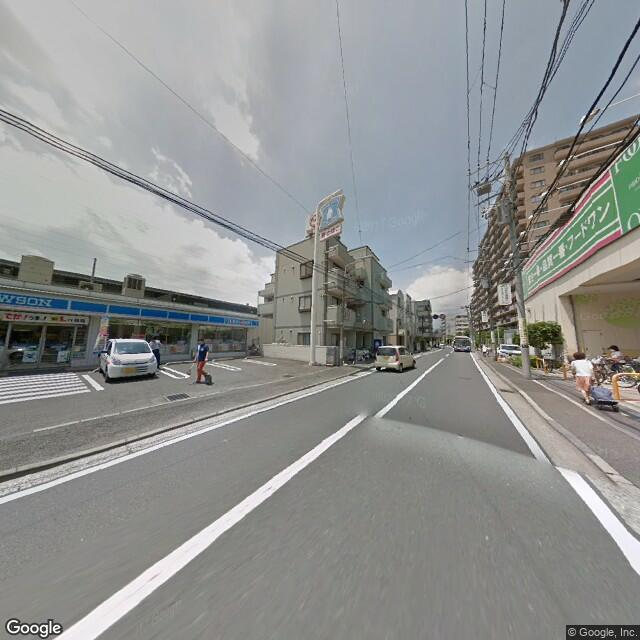lawson: (3, 281, 259, 332)
